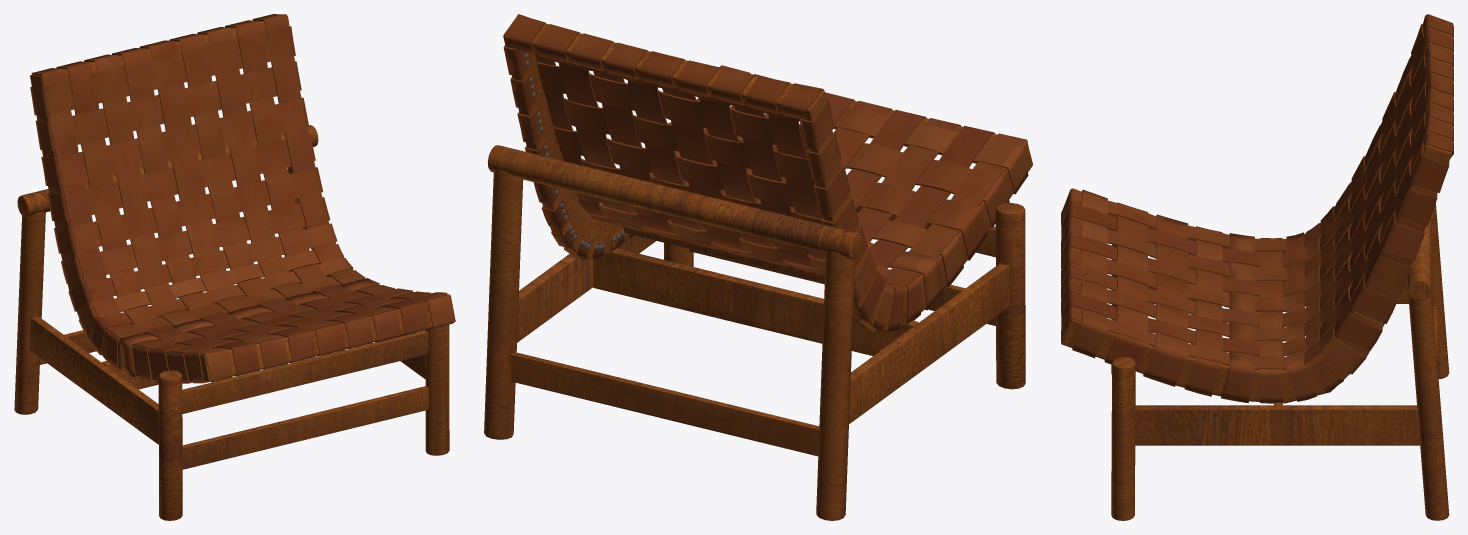
File: bella-3d-woven-leather-lounge-chair.glb
3 views of the same model, side by side, from view 1: azimuth 30°, elevation 25°; view 2: azimuth 150°, elevation 25°; view 3: azimuth 270°, elevation 25° (orthographic). The views are drawn at different scales.
Parts seen in each view (by area): view 1: woven-leather-lounge-chair-part-1; view 2: woven-leather-lounge-chair-part-1; view 3: woven-leather-lounge-chair-part-1.
Part boxes in pixels (box(x1,y1,x2,y2)): woven-leather-lounge-chair-part-1: box(14, 14, 455, 520); woven-leather-lounge-chair-part-1: box(484, 14, 1032, 520); woven-leather-lounge-chair-part-1: box(1061, 14, 1453, 520).
Bounding box in the file's own units: 0.6704 × 0.7435 × 0.7223.
Materials: 3 (2 with a texture image).
